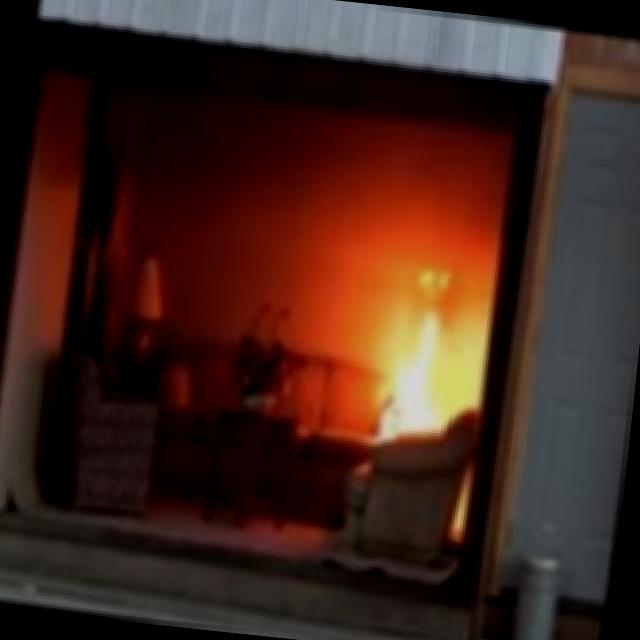fire: (324, 227, 502, 426)
